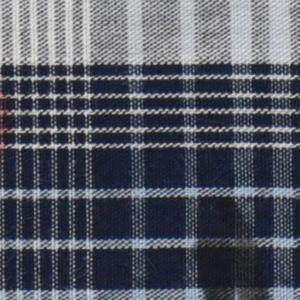Stain: (191, 194, 276, 300), (1, 88, 19, 164)
